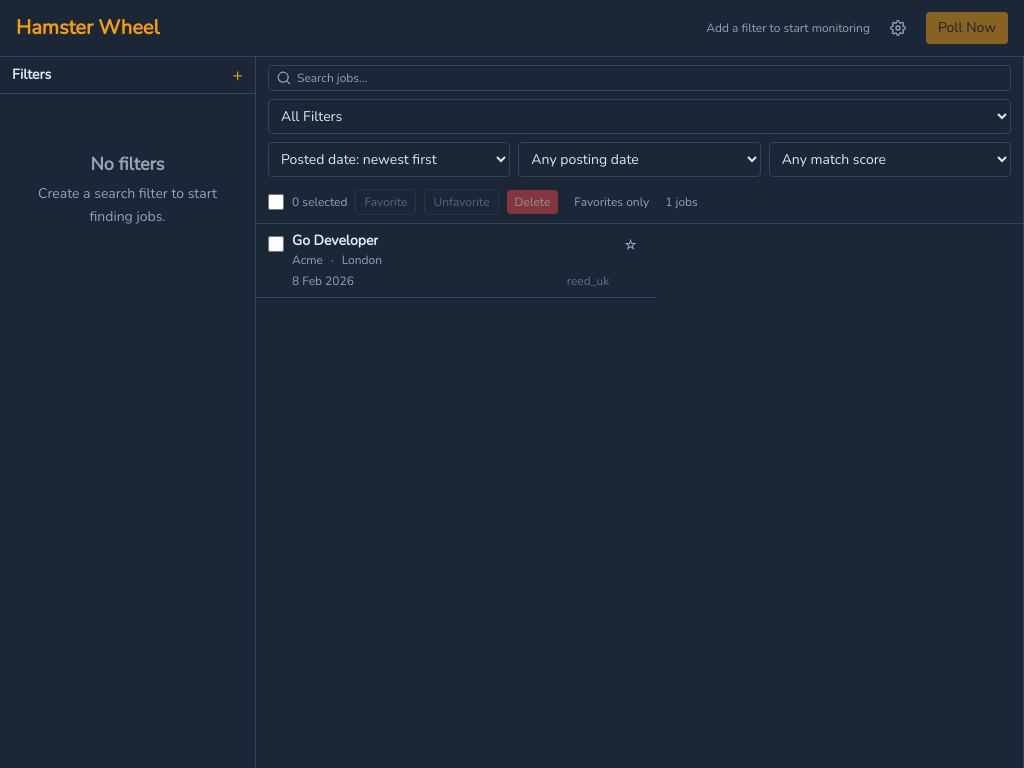
Test: App › closes settings panel when a job is selected
Expected: the text "Go Developer" is shown, [292,232,378,250]
// Open settings.
Click the button named "open settings" at (898, 28), box [886,16,910,40]
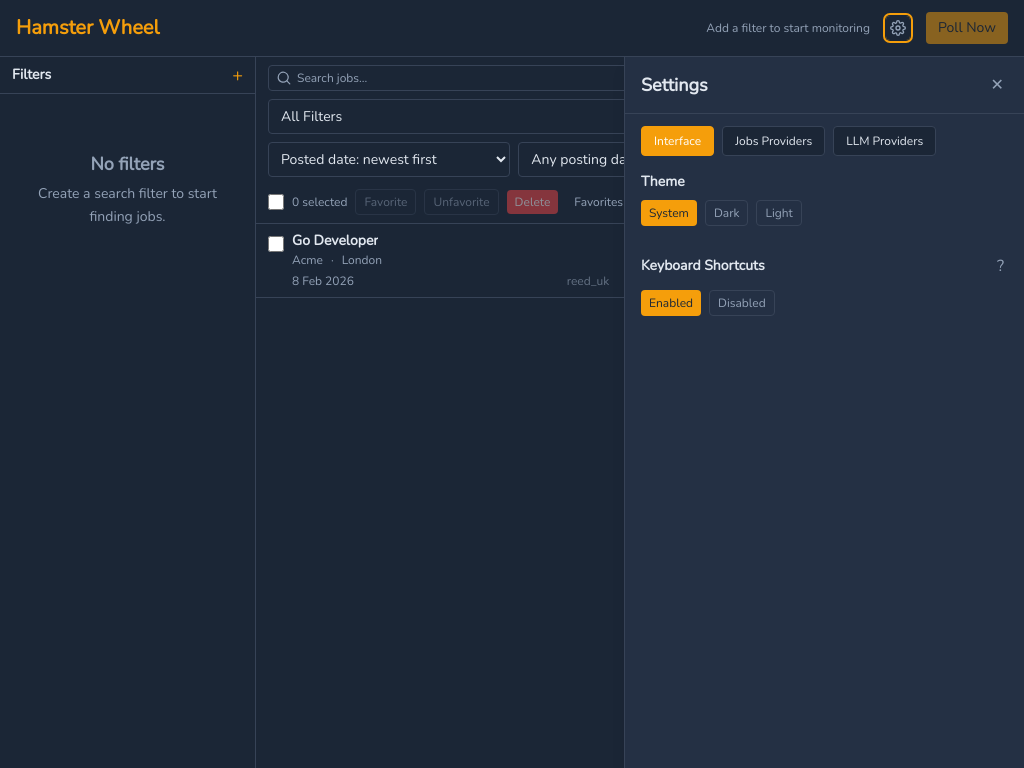
Expected: the dialog "Settings" is shown, [624,57,1023,767]
// Click a job tile.
Click the text "Go Developer" at (335, 241), box [292,232,378,250]
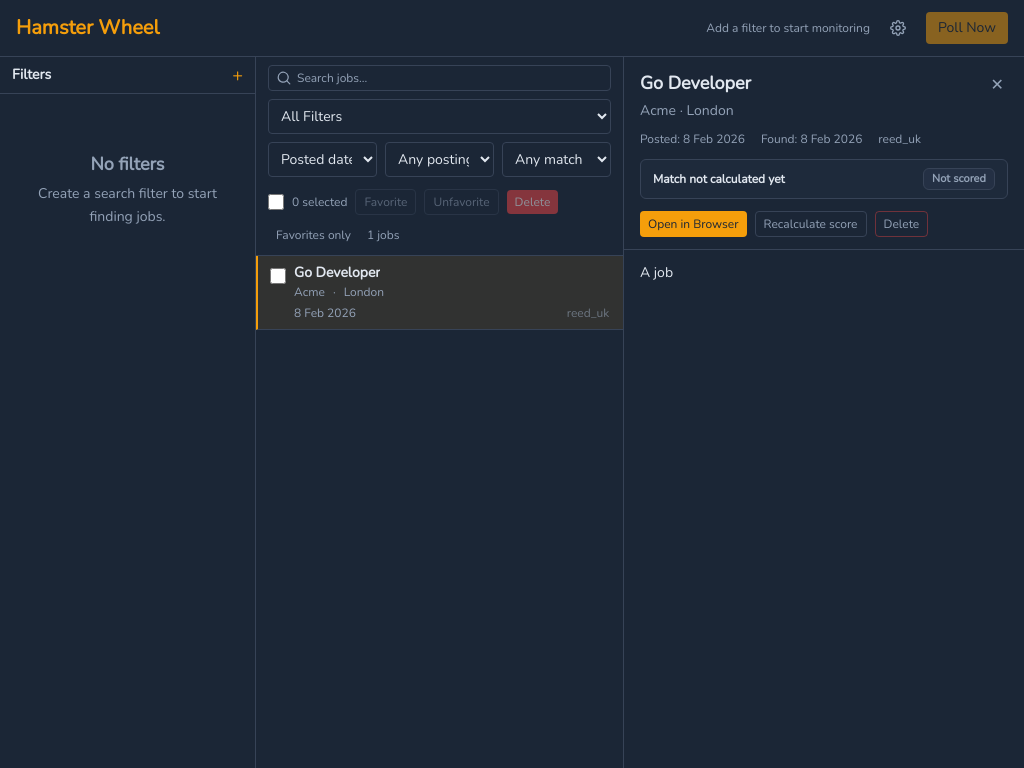
Expected: the heading "Settings" is gone
